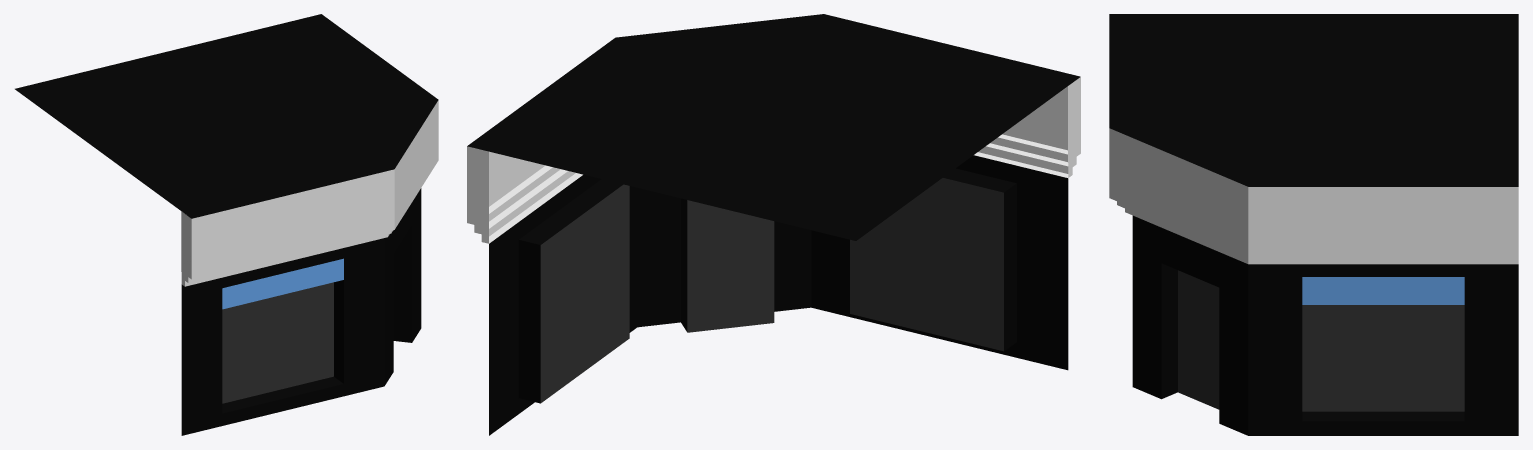
Rendered from Edificio-5.fbx.
3 views of the same model, side by side, from view 1: azimuth 30°, elevation 25°; view 2: azimuth 150°, elevation 25°; view 3: azimuth 270°, elevation 25° (orthographic). The views are drawn at different scales.
Parts seen in each view (by area): view 1: Plane; view 2: Plane; view 3: Plane.
Boxes of the visible parts, left/top/right/bottom form: Plane: left=15, top=14, right=438, bottom=435; Plane: left=467, top=14, right=1080, bottom=435; Plane: left=1109, top=14, right=1518, bottom=435.
Bounding box in the file's own units: 1060 × 740 × 1060.
